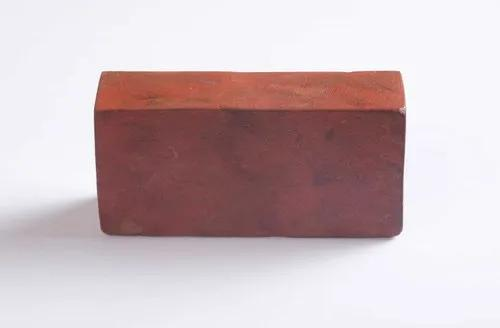brick: (93, 105, 405, 238)
